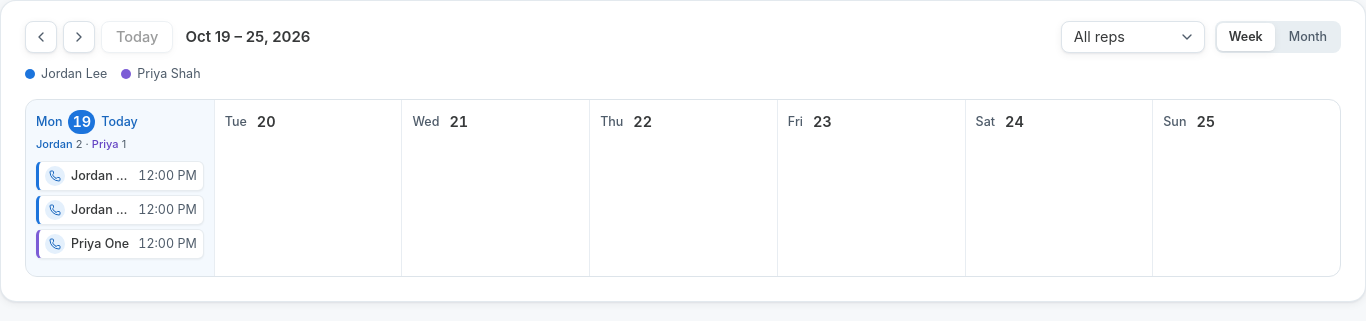
Test: TaskCalendar › manager: colour-codes each rep with a legend, counts each rep’s day and filters to one rep
Expected: the number of links is 3, 36,162 -> 204,192; 36,196 -> 204,226; 36,230 -> 204,260
Expected: the list items read "Jordan Lee", "Priya Shah", in this order, 25,65 -> 107,83; 121,65 -> 201,83
Select "Priya Shah" in the dropdown named "Show follow-ups for". click: (1133, 37)
box: 1061,21 -> 1205,53
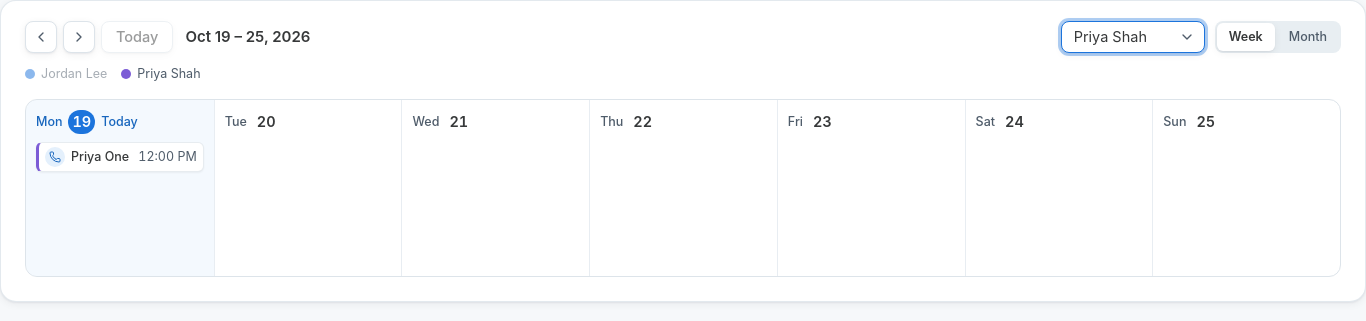
Expected: the number of links is 1, 36,142 -> 204,172
Expected: the element with test id "rep-load" is gone
